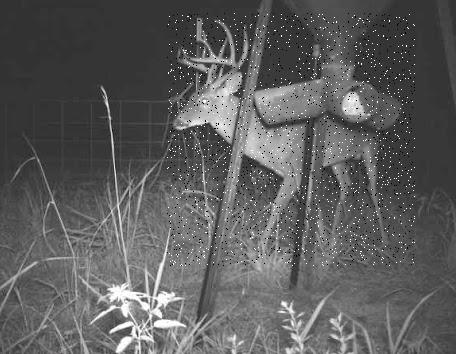Deer: (167, 14, 415, 267)
